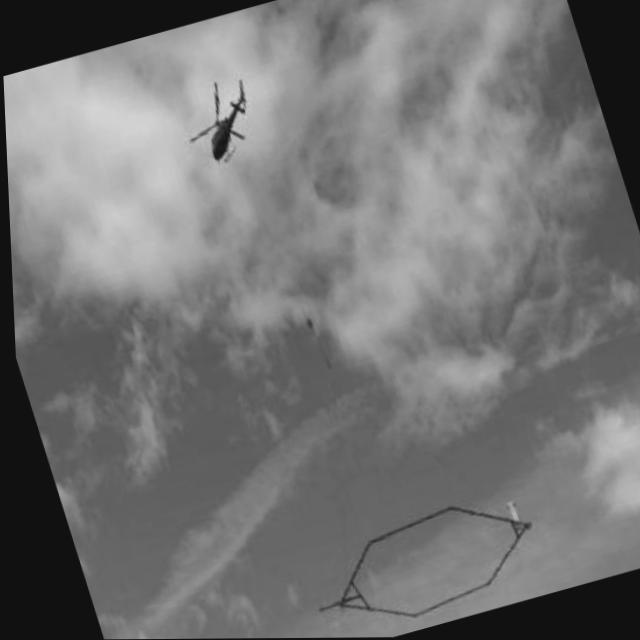helikopter: (156, 47, 279, 198)
